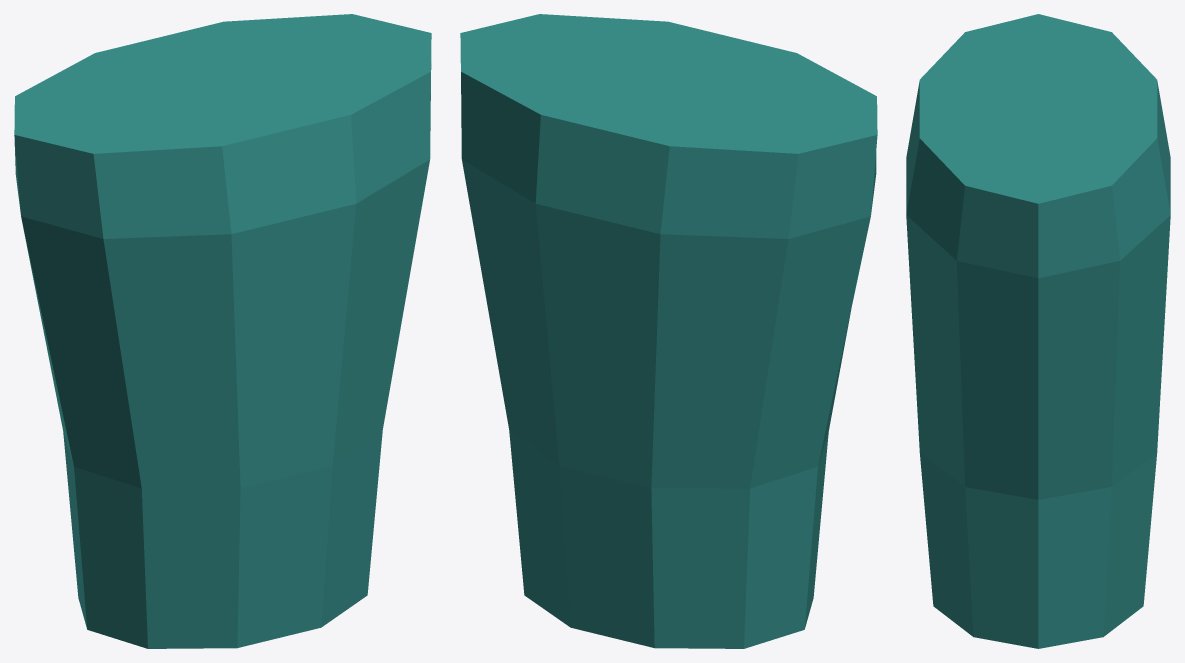
Rendered from wk_shell_chest_tunic_v01.glb.
3 views of the same model, side by side, from view 1: azimuth 30°, elevation 25°; view 2: azimuth 150°, elevation 25°; view 3: azimuth 270°, elevation 25° (orthographic). The views are drawn at different scales.
Parts seen in each view (by area): view 1: GEO_Tunic; view 2: GEO_Tunic; view 3: GEO_Tunic.
Boxes of the visible parts, box(x1,y1,x2,y2) form: GEO_Tunic: box(14, 14, 431, 648); GEO_Tunic: box(460, 14, 877, 648); GEO_Tunic: box(906, 14, 1170, 648).
Bounding box in the file's own units: 0.63 × 0.74 × 0.3709.
